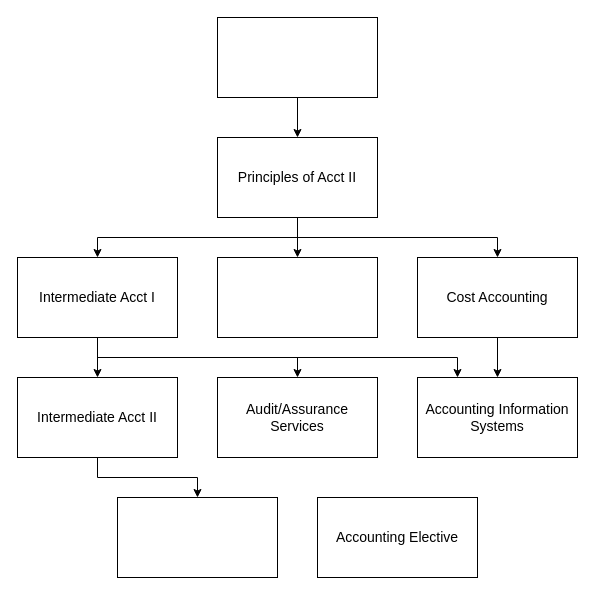
Image size: 595x595. Some labels were removed from this diagram. The centre of each missing label's shape, as x and y in pixels:
Federal Income Tax I: (297,297)
Intermediate Acct III: (197,537)
Principles of Acct I: (297,57)
